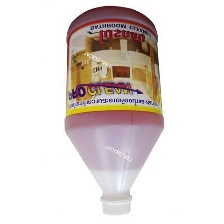cleaning_solution: (61, 3, 166, 219)
